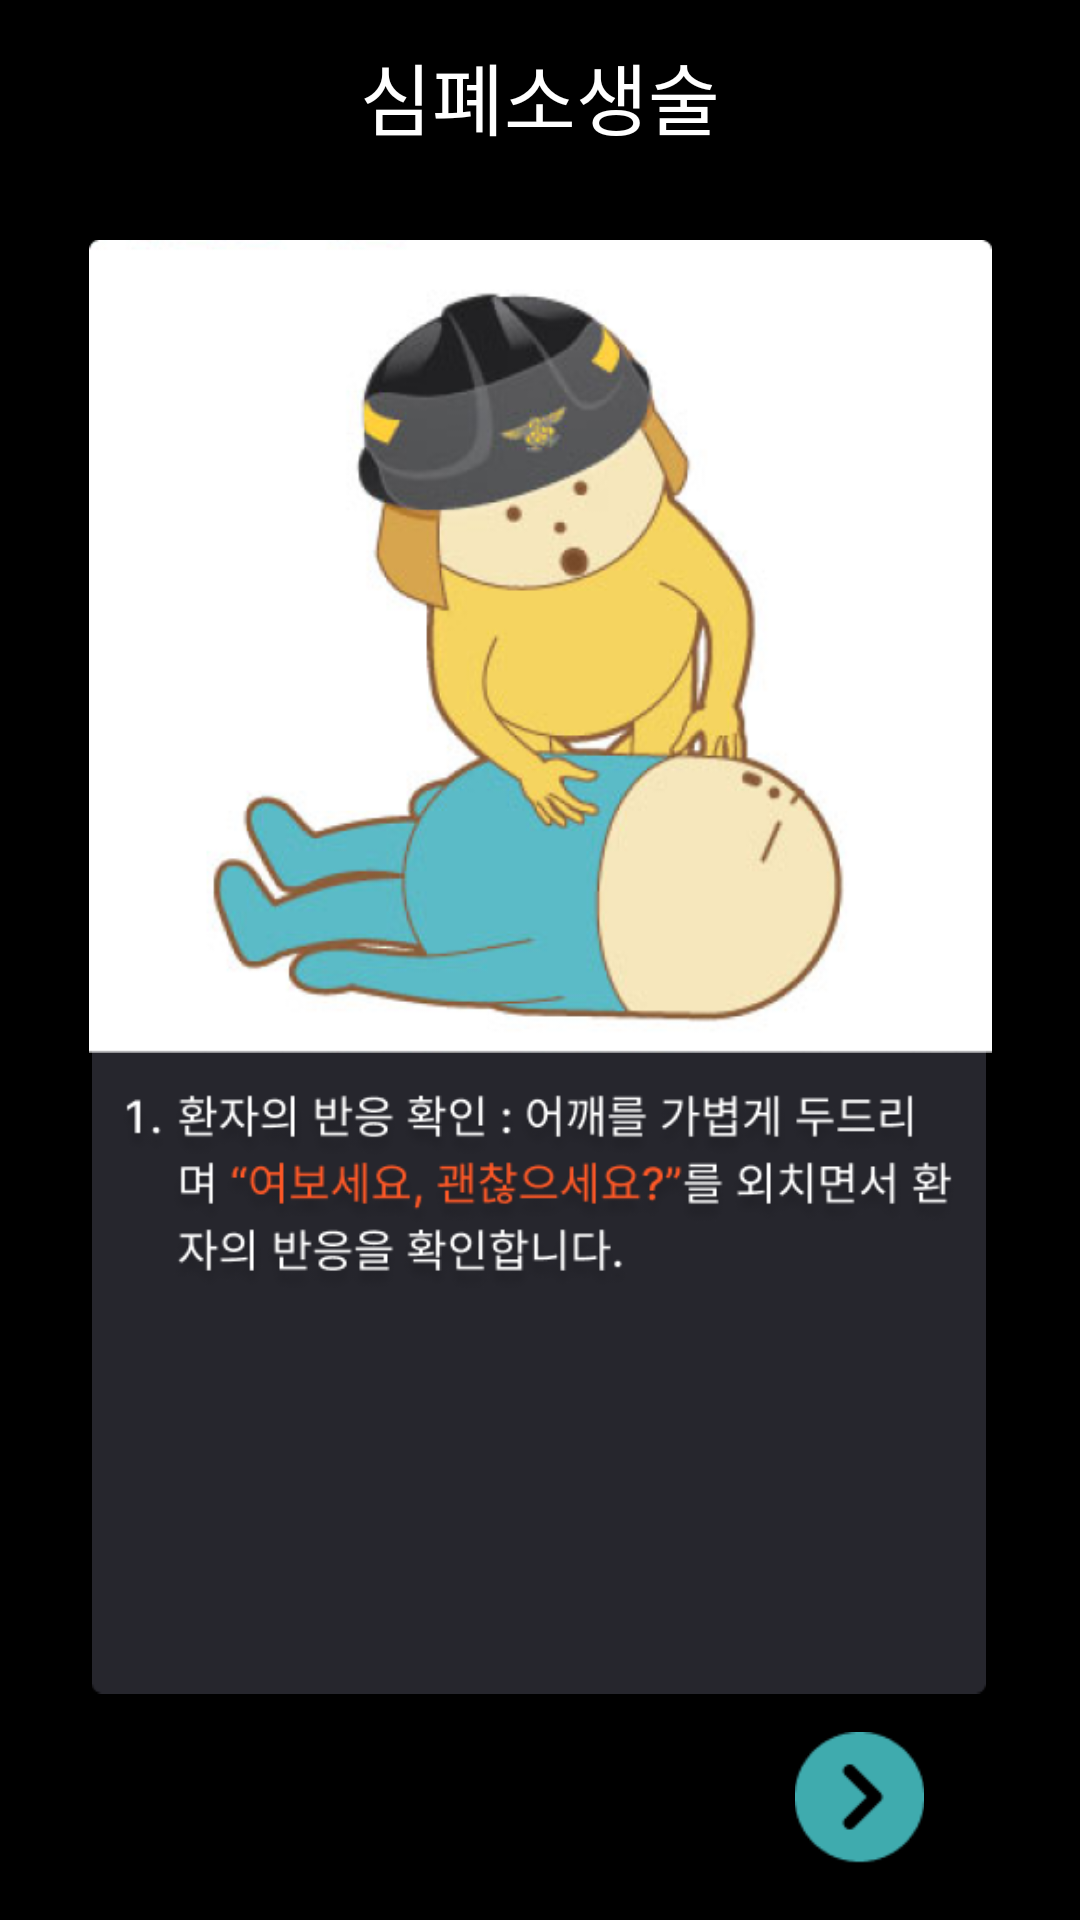

Icon bounding boxes for this 1080×1920 phone screenshot, format BBox(x1, y1, x2, y2):
edu next page: BBox(795, 1732, 924, 1863)
